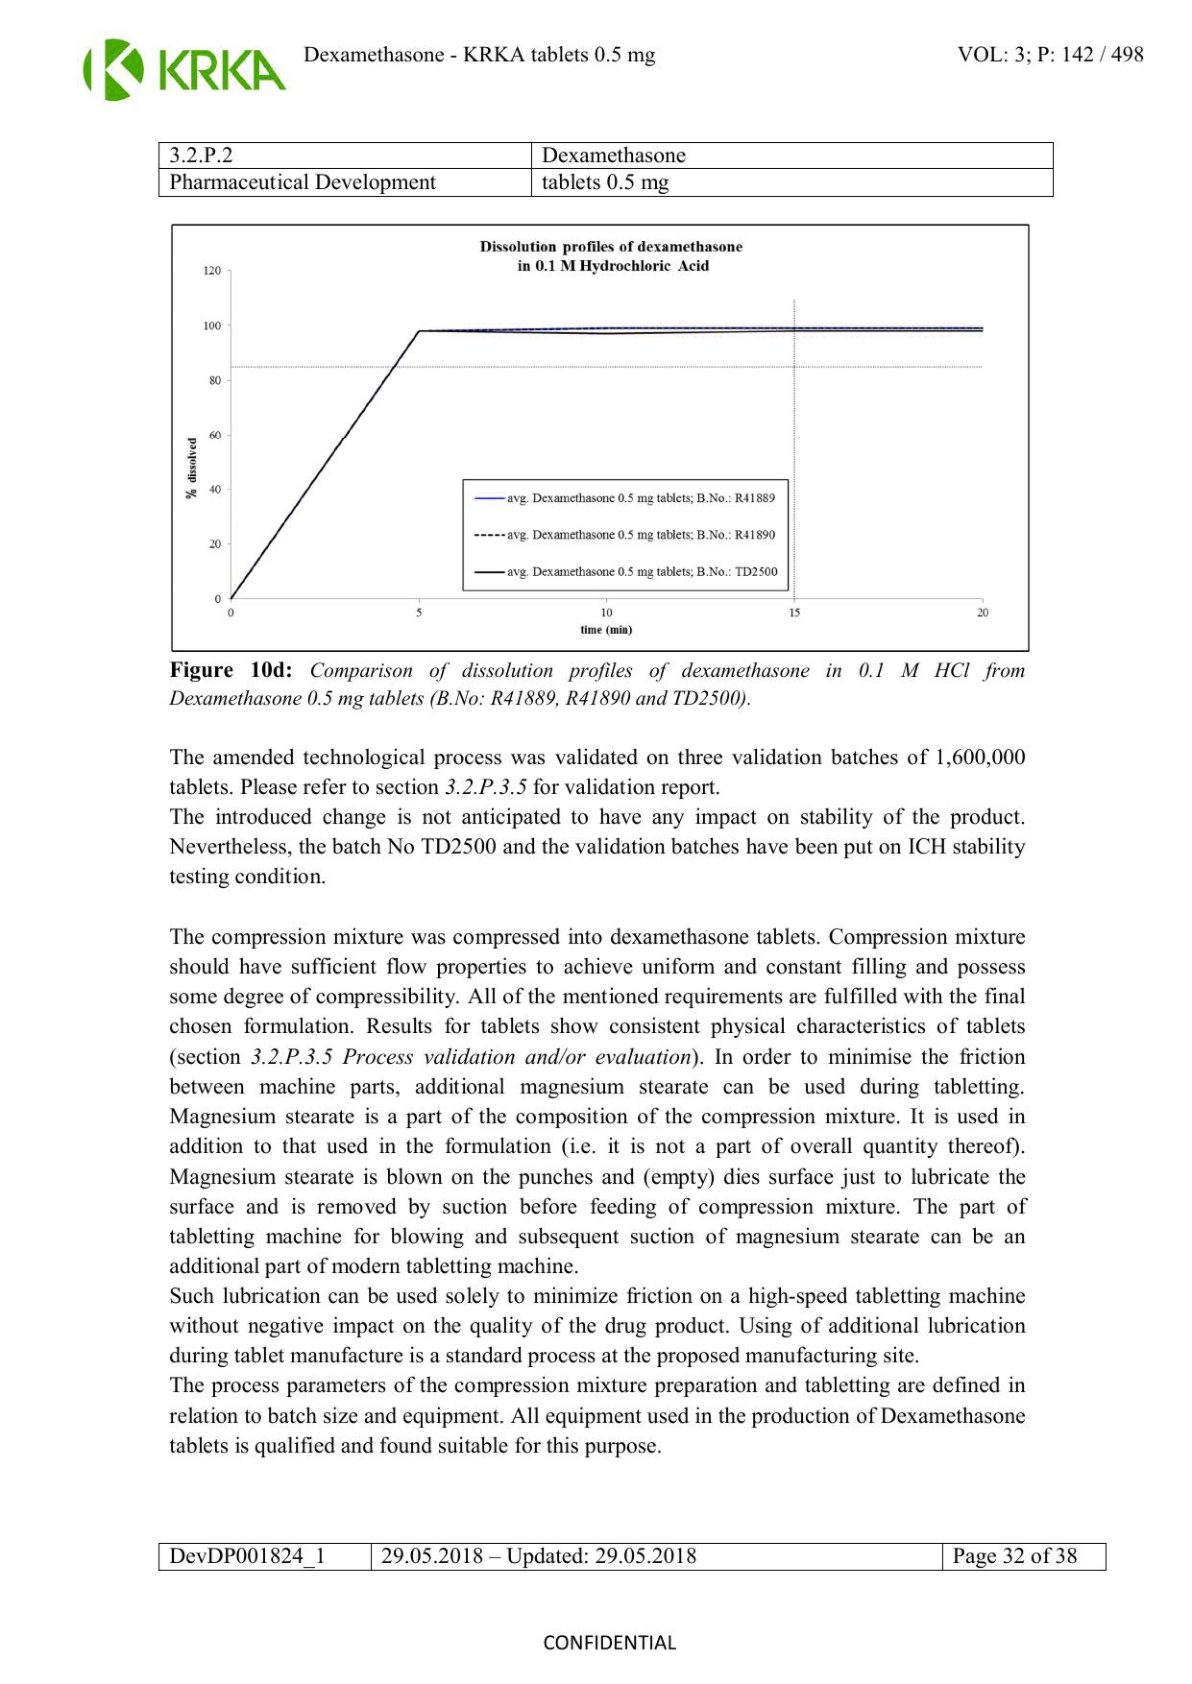full_lined: (156, 141, 1054, 199), (157, 1542, 1107, 1571)
